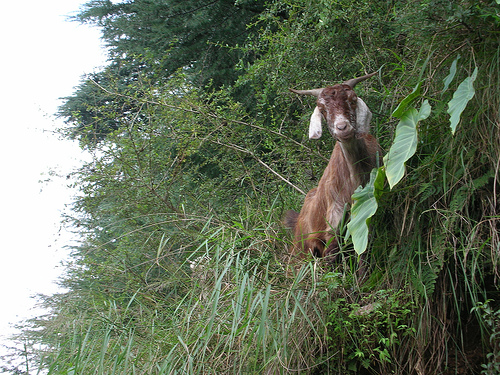goat: (285, 70, 384, 283)
